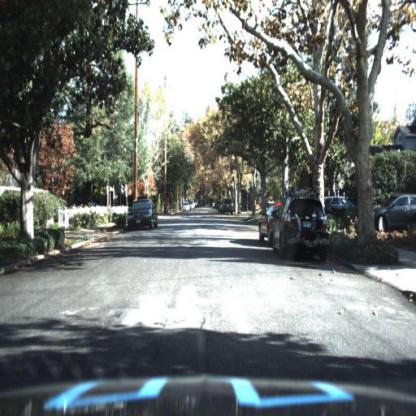car: (272, 195, 330, 262), (369, 187, 416, 237), (371, 191, 415, 228), (125, 196, 156, 232), (257, 197, 273, 247), (219, 198, 234, 214)
